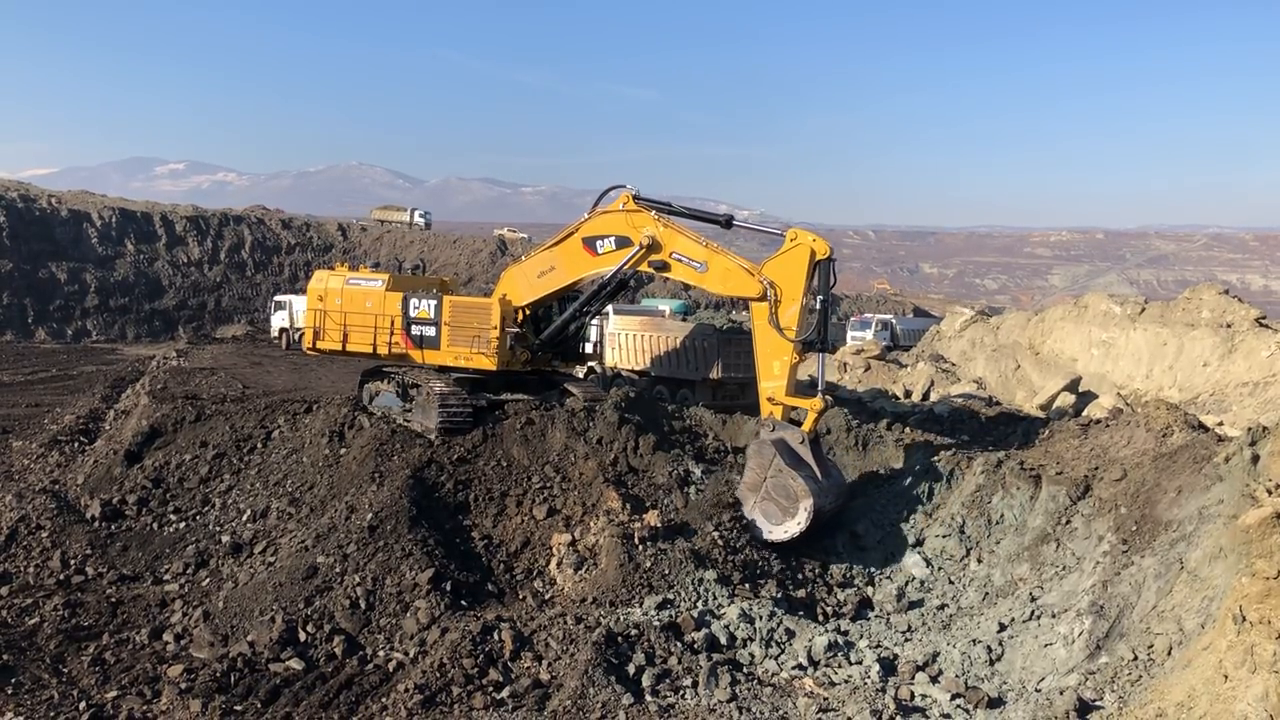full: (731, 416, 851, 545)
